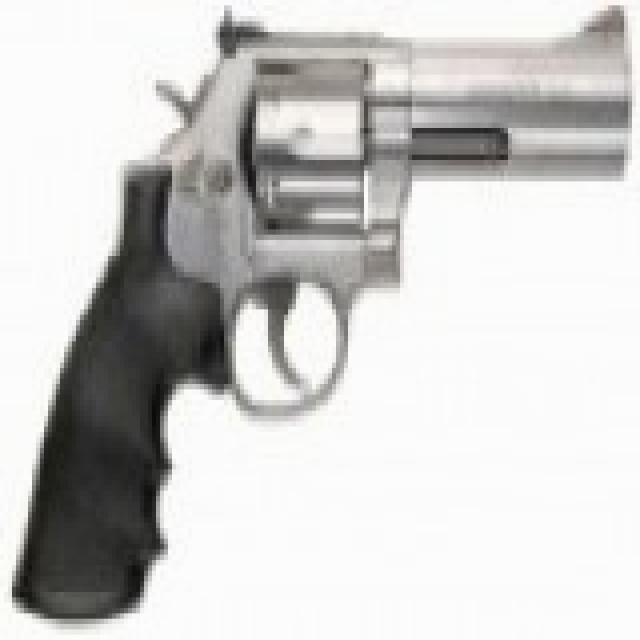pistol: (20, 0, 628, 613)
